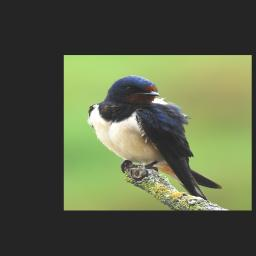Swallow: (86, 75, 223, 202)
